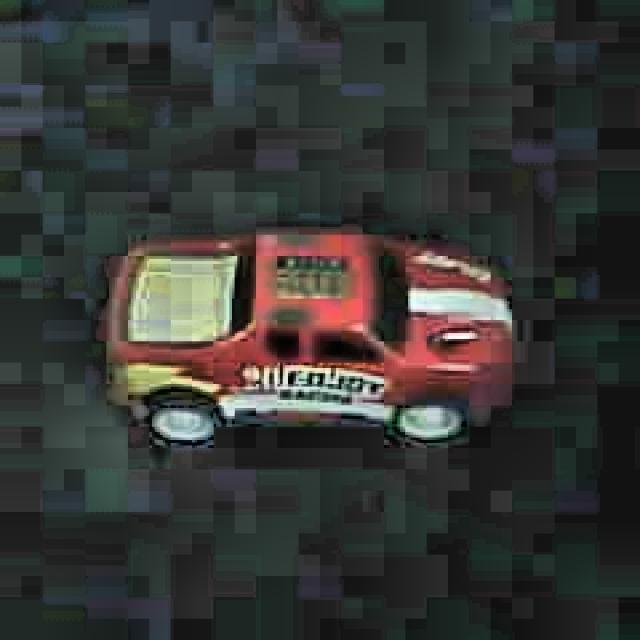car: (99, 228, 515, 451)
